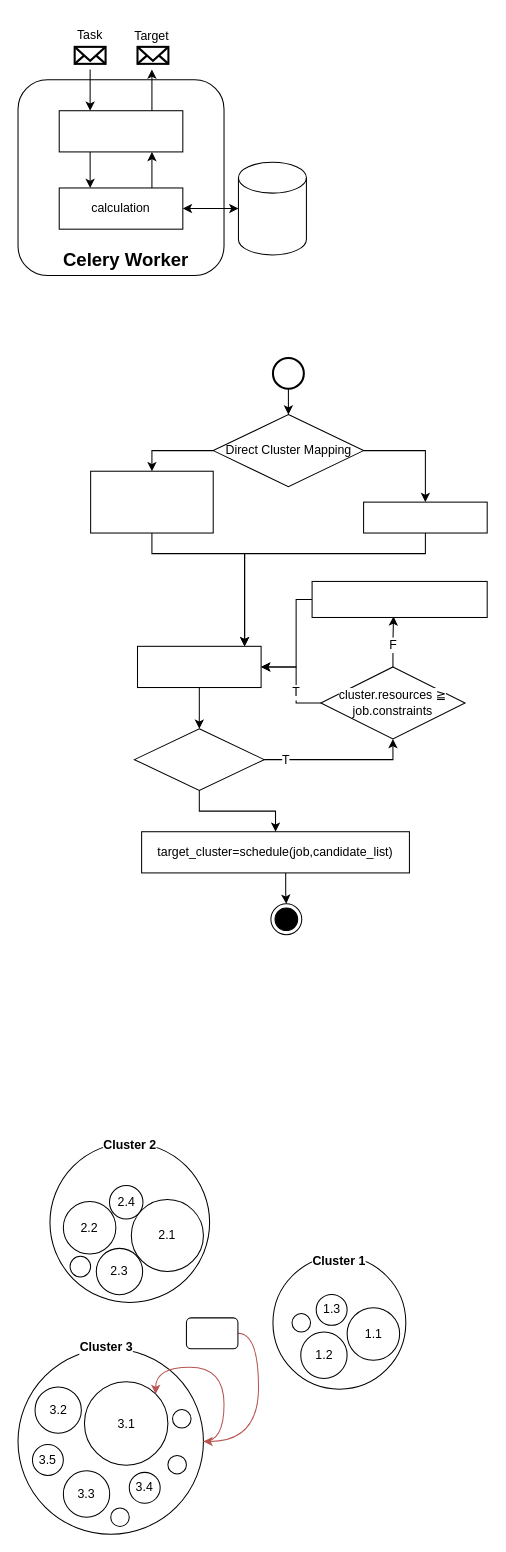
Some shapes in this 506 by 1552 pixel diagram are drawn without their labels. The box of each missing label's shape, as (x1, y1, x2, y2) in pixels:
candidate_list.remove(cluster): (311, 580, 487, 617)
cluster != none: (133, 728, 264, 791)
Clusters DB: (237, 161, 306, 255)
Extract Cluster candidates_list from deployment descriptor: (90, 470, 213, 533)
for: cluster in candidate_list: (136, 645, 261, 688)
Generate Cluster candidates_list: (363, 501, 487, 533)
Job: (185, 1317, 238, 1349)
scheduling: (58, 110, 183, 152)
